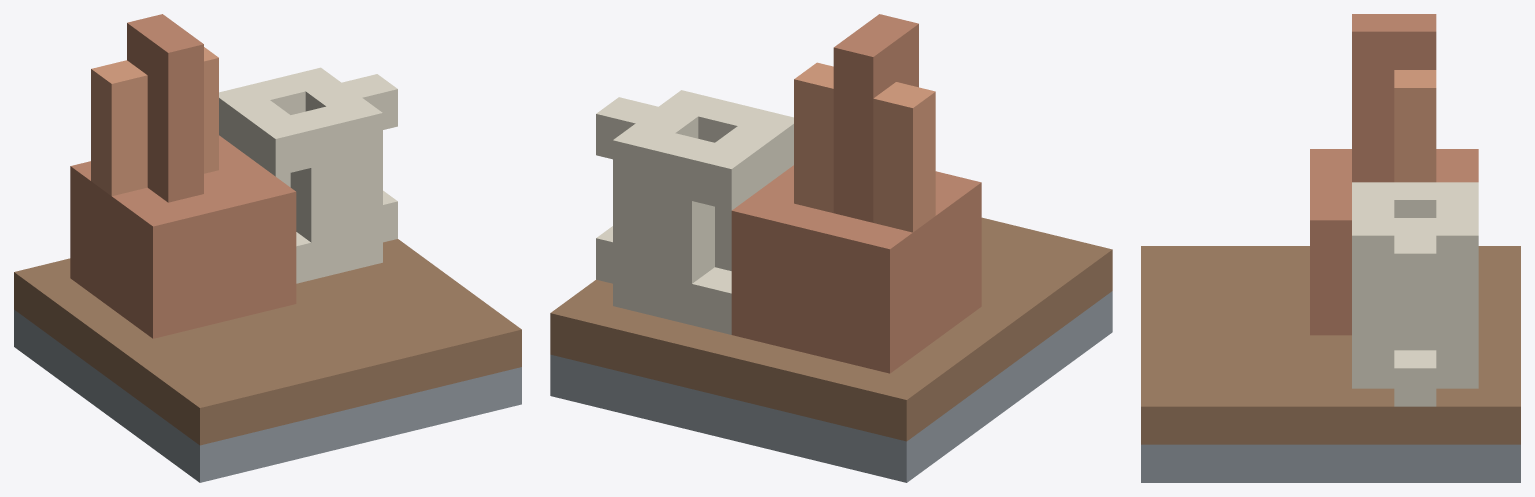
Rendered from energy.lod2.glb.
3 renders of one model, left to right at view 1: azimuth 30°, elevation 25°; view 2: azimuth 150°, elevation 25°; view 3: azimuth 270°, elevation 25°, orthographic. The views are drawn at different scales.
Parts seen in each view (by area): view 1: VX_energy_LOD2; view 2: VX_energy_LOD2; view 3: VX_energy_LOD2.
Part boxes in pixels (x1,y1,x2,y2): VX_energy_LOD2: [14, 14, 521, 482]; VX_energy_LOD2: [550, 14, 1112, 482]; VX_energy_LOD2: [1141, 14, 1520, 482].
Bounding box in the file's own units: 5.94 × 5.94 × 5.94.
